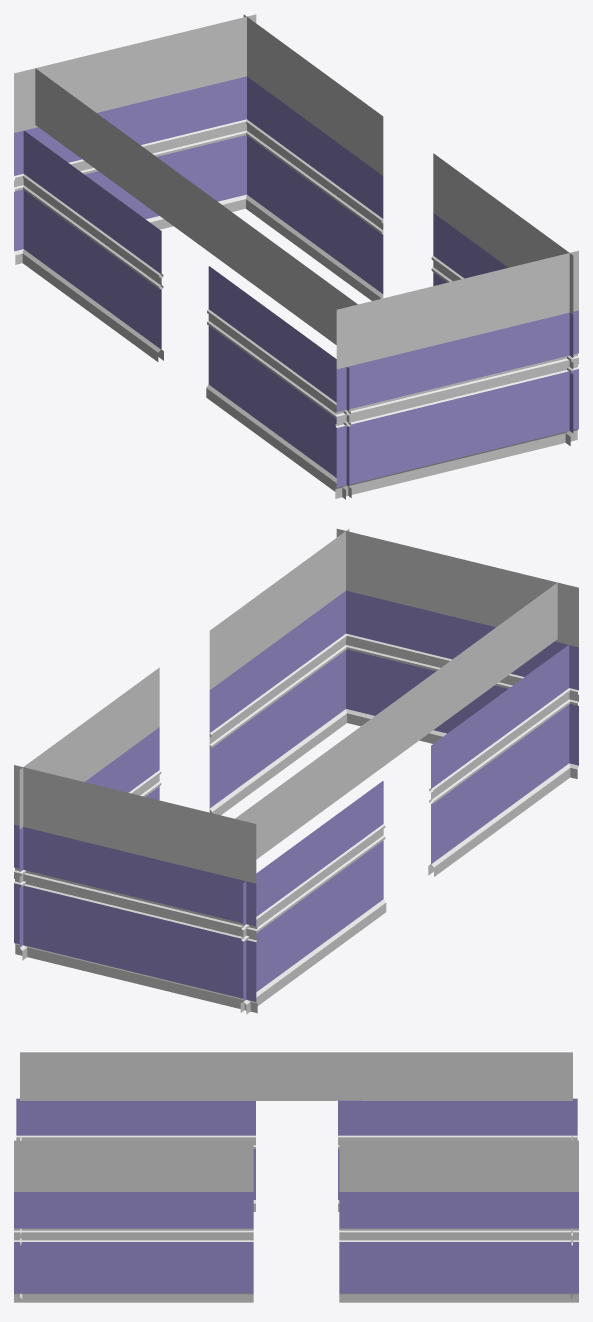
Rendered from Guard station walls.fbx.
The picture shows the model from 3 angles, top to bottom: view 1: azimuth 30°, elevation 25°; view 2: azimuth 150°, elevation 25°; view 3: azimuth 270°, elevation 25°; orthographic projection. The views are drawn at different scales.
Visible parts, largest first — view 1: wall.056, wall.055, wall.054, wall.057, wall.058, wall.045, wall.062, wall.115, wall.114, wall.116, wall.042, wall.118 (+36 smaller); view 2: wall.060, wall.059, wall.061, wall.058, wall.057, wall.118, wall.120, wall.119, wall.114, wall.043, wall.041, wall.115 (+36 smaller); view 3: wall.039, wall.042, wall.041, wall.043, wall.045, wall.062, wall.044, wall.063, wall.109, wall.040, wall.093, wall.090 (+21 smaller).
Part boxes in pixels (x1,y1,x2,y2): wall.056: [456, 325, 518, 469]; wall.055: [396, 340, 457, 483]; wall.054: [335, 355, 397, 498]; wall.057: [517, 310, 578, 454]; wall.058: [195, 76, 246, 211]; wall.045: [311, 125, 348, 281]; wall.062: [276, 99, 313, 255]; wall.115: [241, 292, 278, 448]; wall.114: [206, 266, 243, 422]; wall.116: [276, 317, 313, 473]; wall.042: [345, 151, 383, 300]; wall.118: [123, 206, 160, 361]; wall.060: [135, 854, 196, 998]; wall.059: [74, 839, 136, 983]; wall.061: [195, 869, 257, 1013]; wall.058: [14, 824, 75, 968]; wall.057: [346, 590, 397, 726]; wall.118: [348, 781, 386, 937]; wall.120: [278, 832, 316, 988]; wall.119: [313, 807, 351, 962]; wall.114: [431, 721, 468, 876]; wall.043: [279, 614, 316, 770]; wall.041: [244, 639, 281, 795]; wall.115: [466, 695, 503, 851]; wall.039: [193, 1192, 253, 1302]; wall.042: [339, 1192, 399, 1302]; wall.041: [134, 1192, 193, 1302]; wall.043: [74, 1192, 133, 1302]; wall.045: [399, 1192, 458, 1302]; wall.062: [459, 1192, 518, 1302]; wall.044: [14, 1192, 73, 1302]; wall.063: [519, 1192, 578, 1302]; wall.109: [230, 1052, 362, 1100]; wall.040: [193, 1140, 253, 1191]; wall.093: [339, 1140, 399, 1191]; wall.090: [134, 1140, 193, 1191].
Bounding box in the file's own units: 1600 × 1202 × 3772.
